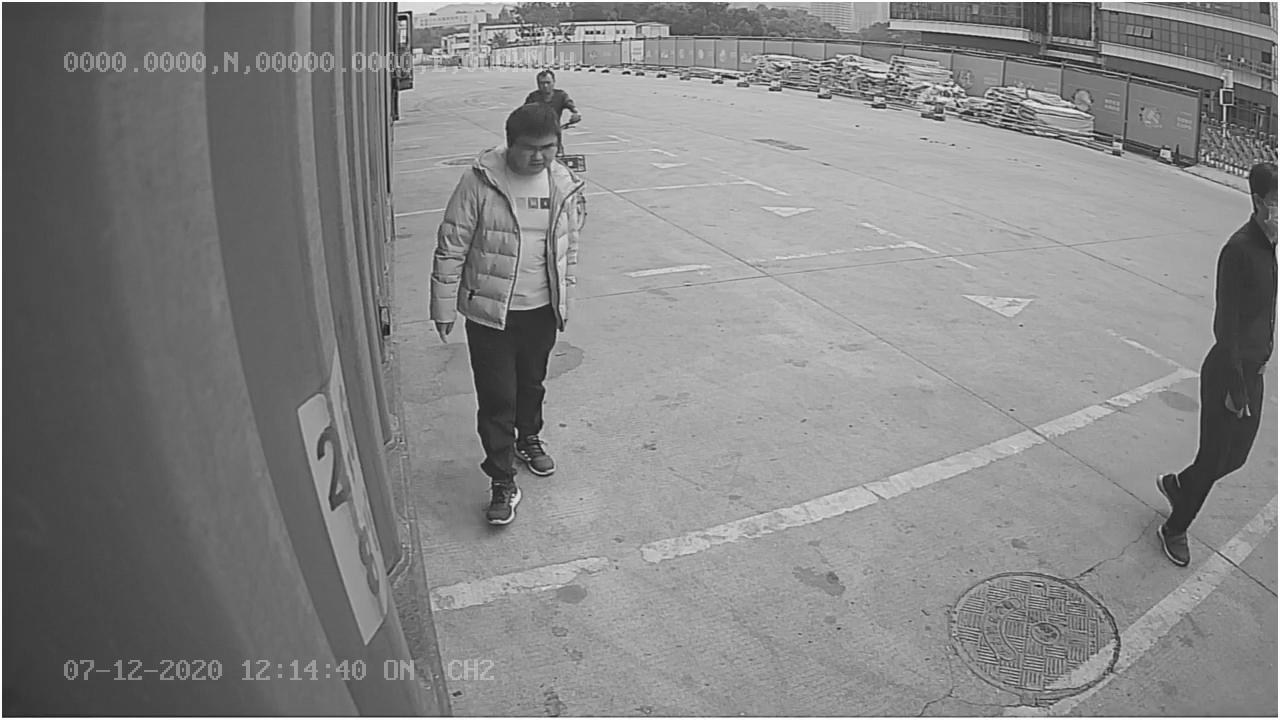person: (429, 103, 581, 523)
